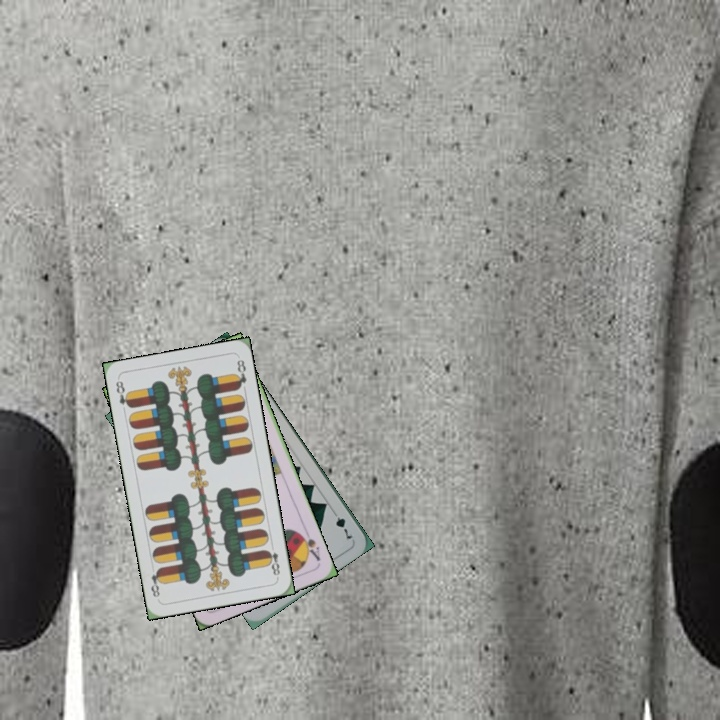E8: (112, 377, 134, 411), (262, 546, 282, 580)
G7: (328, 506, 355, 543)
SA: (295, 526, 323, 564)
